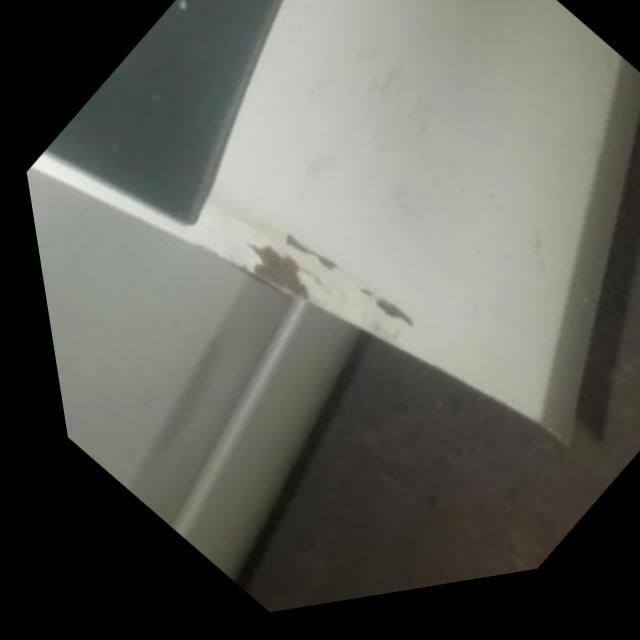crack: (234, 246, 304, 315), (348, 292, 406, 347), (273, 233, 330, 288)
